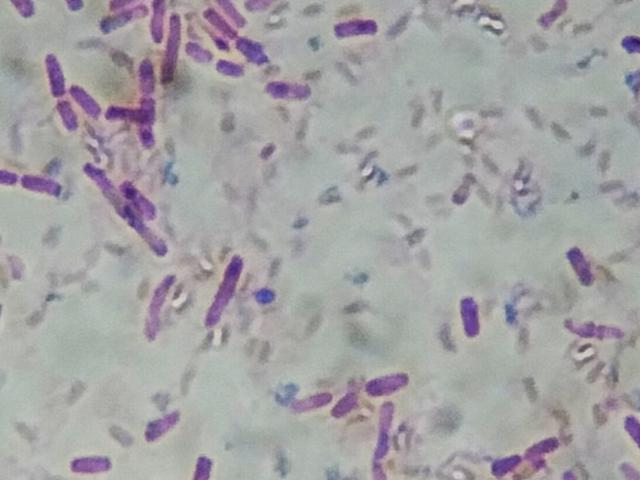E. coli: (207, 246, 247, 337), (141, 267, 173, 345), (373, 398, 403, 477), (121, 210, 165, 252), (19, 169, 71, 202), (568, 314, 619, 347), (115, 178, 157, 218), (455, 288, 486, 339), (143, 402, 182, 441), (166, 12, 188, 81), (39, 45, 68, 97), (567, 244, 597, 294), (135, 96, 163, 148), (523, 434, 566, 467), (331, 13, 378, 42), (362, 371, 416, 396), (64, 447, 114, 473), (88, 162, 115, 210), (326, 386, 361, 420), (215, 0, 259, 27), (483, 451, 525, 479), (97, 6, 145, 30), (289, 382, 325, 414), (3, 0, 44, 27), (265, 79, 314, 101), (613, 412, 640, 448), (51, 97, 79, 131), (531, 0, 565, 28), (189, 446, 216, 480), (109, 101, 148, 124), (148, 0, 166, 47), (202, 5, 228, 37), (185, 36, 214, 62), (71, 83, 96, 112), (242, 35, 265, 66), (140, 56, 155, 90), (54, 0, 90, 14), (216, 56, 240, 75), (0, 157, 11, 192), (512, 113, 514, 115)
